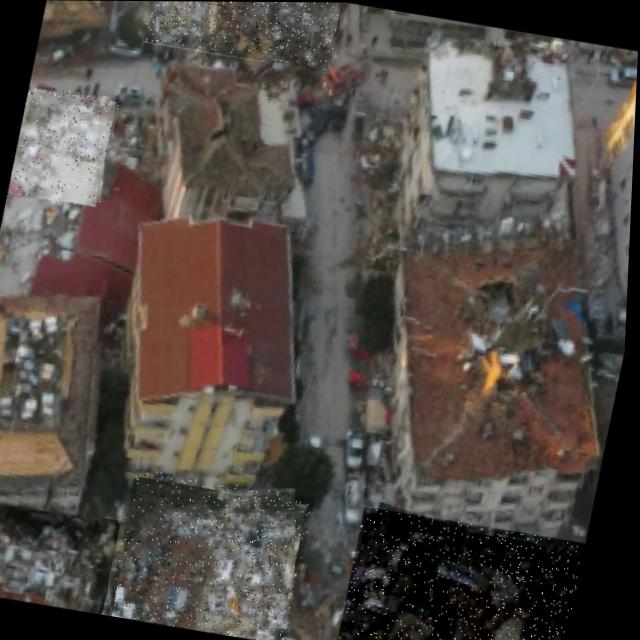Rubble: (111, 468, 320, 640), (341, 506, 591, 640), (0, 493, 127, 615), (141, 1, 343, 72), (9, 85, 121, 209)
